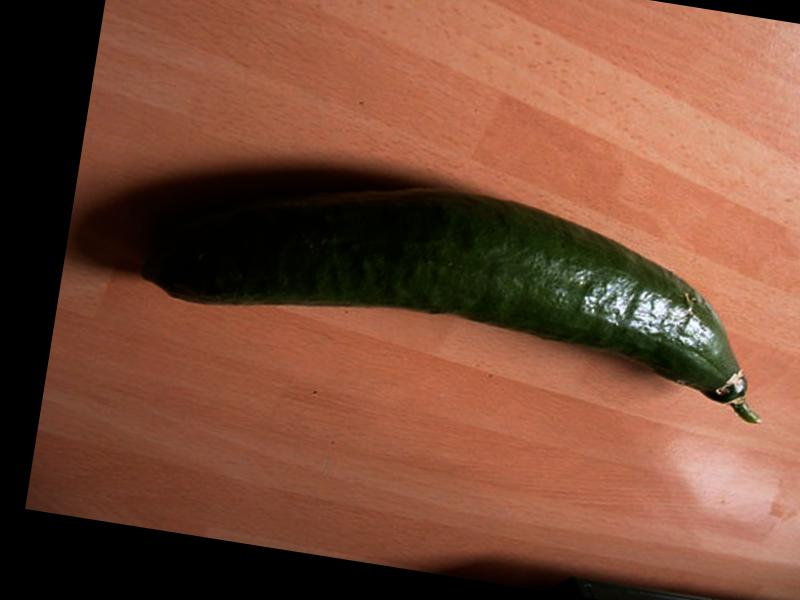Cucumber: (129, 140, 787, 423)
